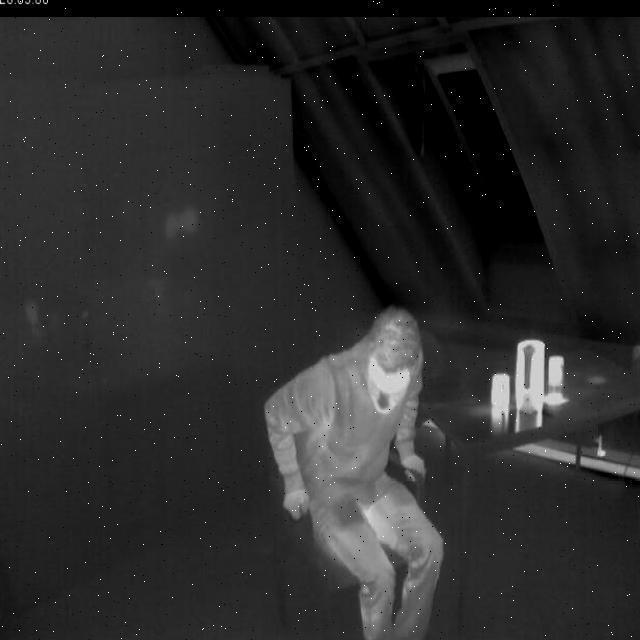person: (263, 301, 450, 640)
